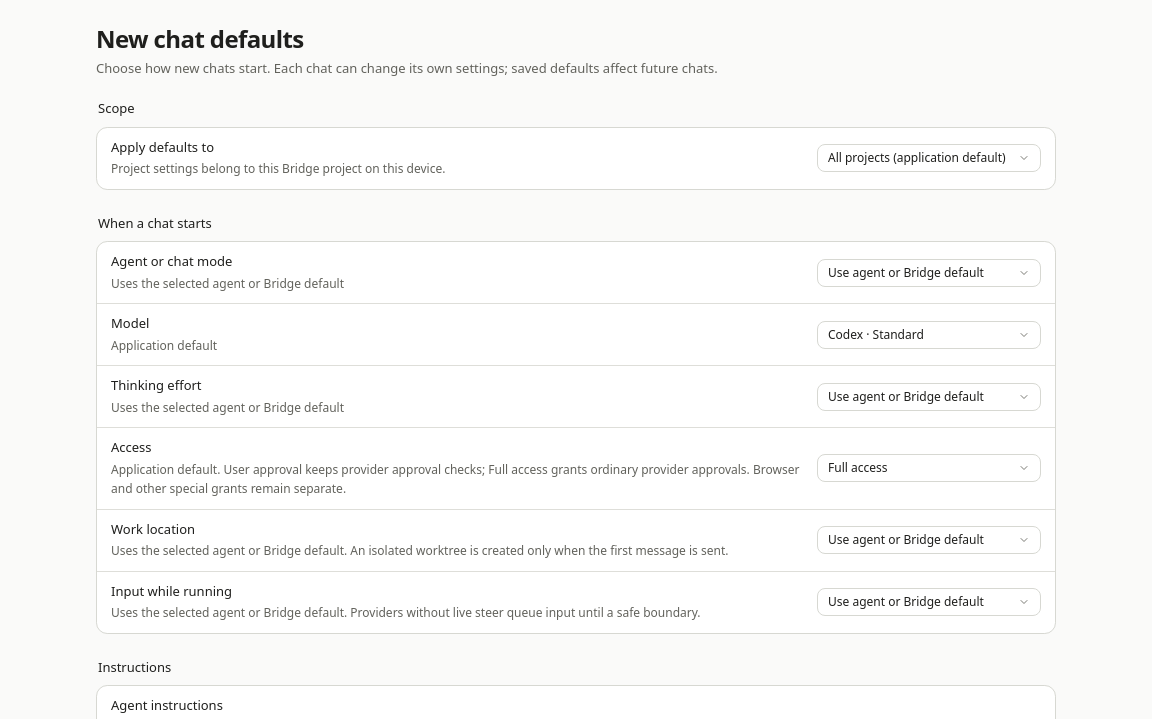
Scenario: labels inherited values with the same words as the menus, never raw data
Click the dropdown labelled "All projects (application default)" at point(929, 158), box [817,144,1041,172]
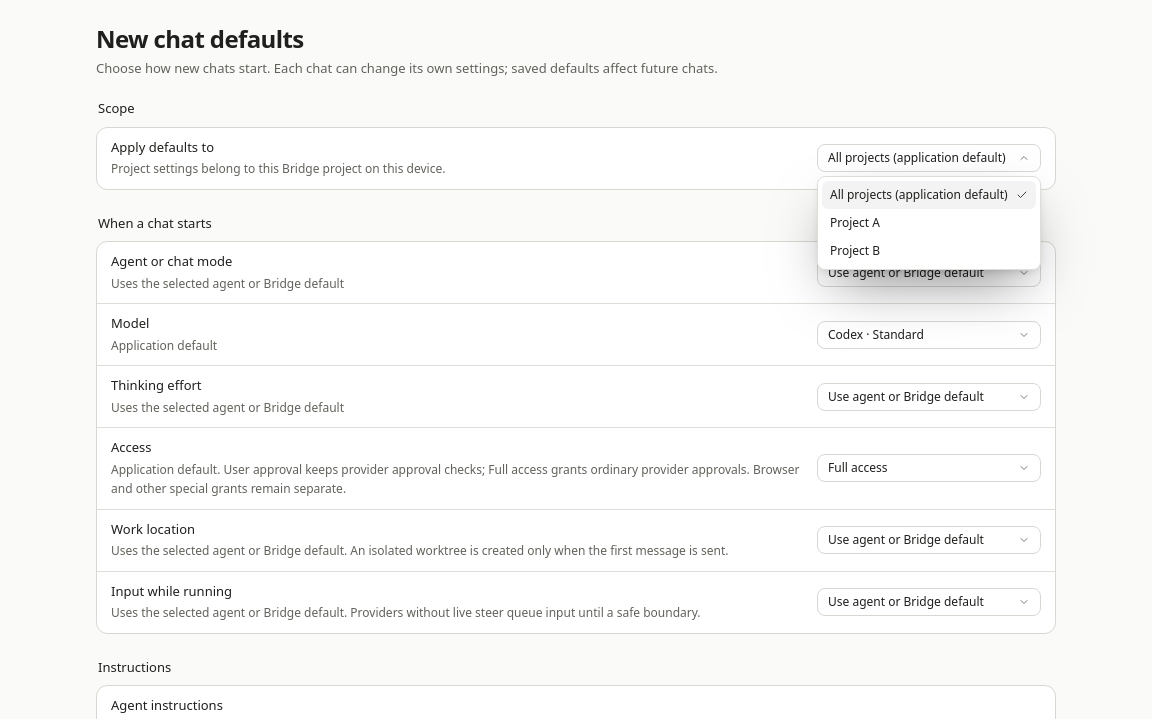
Expected: the option "Project A" is shown
Click the option "Project A" at point(855, 222), box [830,214,880,231]
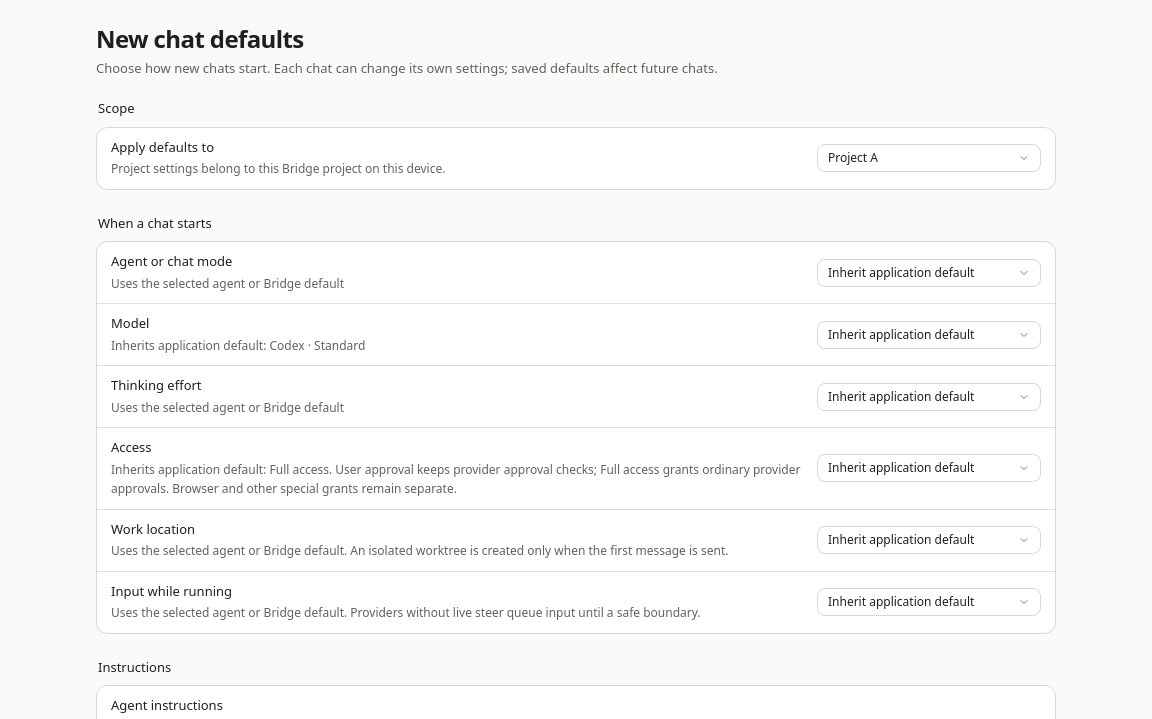
Expected: the text "Inherits application default: Codex · Standard" is shown, [111,337,365,354]
Expected: the text "Inherits application default: Full access" is shown, [111,461,800,497]
